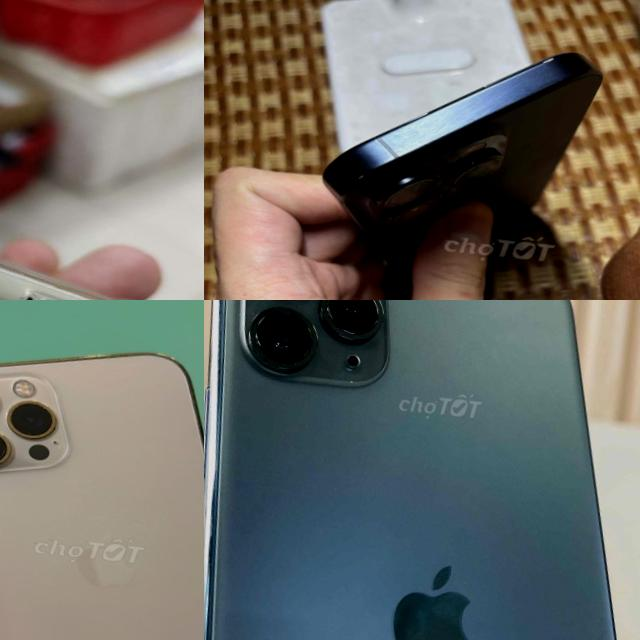gen_11: (204, 300, 640, 640)
gen_12_13: (0, 327, 204, 640)
gen_15: (295, 7, 640, 287)
gen_7_8: (0, 129, 204, 300)
